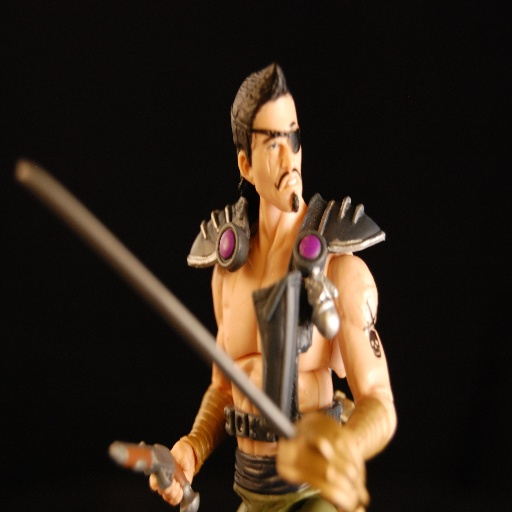hand: (146, 437, 197, 509)
